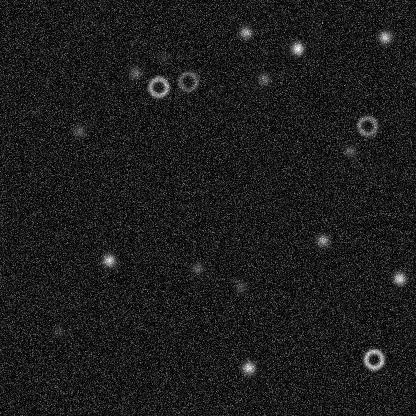Ring: (361, 347, 385, 371), (146, 74, 170, 98), (176, 69, 200, 93), (355, 113, 379, 137)
Spot: (71, 123, 87, 139), (391, 270, 407, 286), (255, 70, 271, 86), (127, 64, 143, 80), (240, 359, 256, 375), (232, 278, 248, 294), (341, 142, 357, 158), (376, 29, 392, 45), (100, 252, 116, 268), (314, 232, 330, 248), (189, 260, 205, 276), (289, 40, 305, 56), (50, 323, 66, 339), (237, 24, 253, 40), (156, 49, 172, 65)
